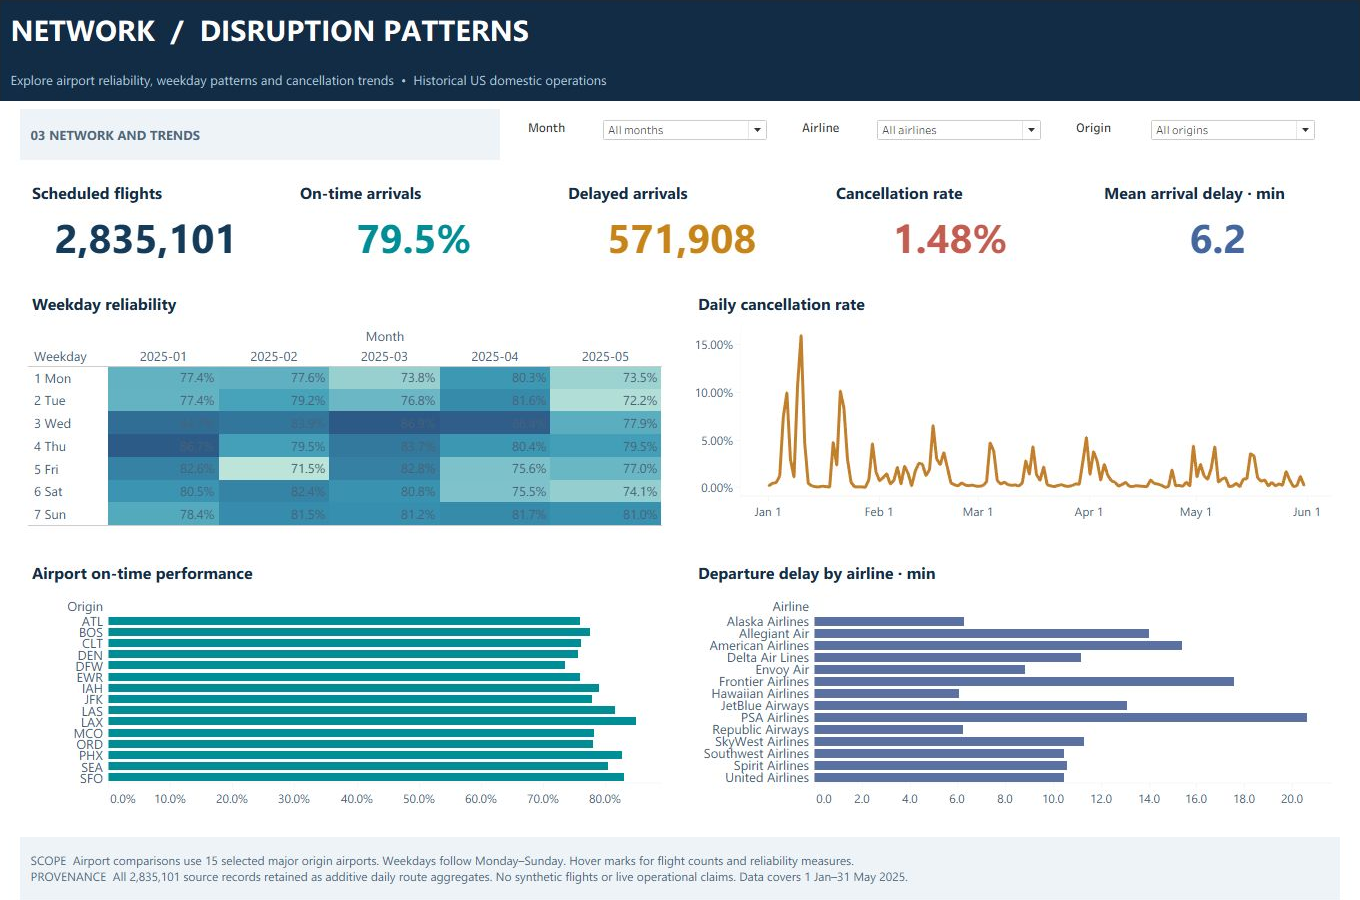

The dashboard page shown, as its layout file describes it:
{"tool":"tableau","page":{"name":"03 Network and Trends","canvas":[1360,900],"ordinal":2},"visuals":[{"type":"text","box":[0,0,1360,58.6]},{"type":"text","box":[0,58.6,1360,42.5]},{"type":"text","box":[20,109.2,480,50.6]},{"type":"parameter","param":"[Parameters].[Month Selection]","box":[520,109.2,258,50.6]},{"type":"parameter","param":"[Parameters].[Airline Selection]","box":[794,109.2,258,50.6]},{"type":"parameter","param":"[Parameters].[Origin Selection]","box":[1068,109.2,258,50.6]},{"type":"worksheet","title":"Scheduled flights","mark":"Text","box":[20,169.9,252,97.1]},{"type":"worksheet","title":"On-time arrivals","mark":"Text","box":[288,169.9,252,97.1]},{"type":"worksheet","title":"Delayed arrivals","mark":"Text","box":[556,169.9,252,97.1]},{"type":"worksheet","title":"Cancellation rate","mark":"Text","box":[824,169.9,252,97.1]},{"type":"worksheet","title":"Mean arrival delay · min","mark":"Text","box":[1092,169.9,252,97.1]},{"type":"worksheet","title":"Weekday reliability","mark":"Square","rows":["Weekday"],"cols":["Month"],"box":[20,281.1,650,252.8]},{"type":"worksheet","title":"Daily cancellation rate","mark":"Line","rows":["Cancellation Rate"],"cols":["Flight Date"],"box":[686,281.1,654,252.8]},{"type":"worksheet","title":"Airport on-time performance","mark":"Bar","rows":["Origin"],"cols":["On Time Rate"],"box":[20,550.1,650,271]},{"type":"worksheet","title":"Departure delay by airline · min","mark":"Bar","rows":["Airline"],"cols":["Mean Departure Delay"],"box":[686,550.1,654,271]},{"type":"text","box":[20,837.3,1320,62.7]}]}

Visuals, with their boxes in screenshot pixels (x1, y1, x2, y2), scaled from the page's 1360x900 canvas onto the 1360x900 screenshot:
text: BBox(0, 0, 1359, 59)
text: BBox(0, 59, 1359, 101)
text: BBox(20, 109, 500, 160)
parameter: BBox(520, 109, 778, 160)
parameter: BBox(794, 109, 1052, 160)
parameter: BBox(1068, 109, 1326, 160)
"Scheduled flights" worksheet (Text marks): BBox(20, 170, 272, 267)
"On-time arrivals" worksheet (Text marks): BBox(288, 170, 540, 267)
"Delayed arrivals" worksheet (Text marks): BBox(556, 170, 808, 267)
"Cancellation rate" worksheet (Text marks): BBox(824, 170, 1076, 267)
"Mean arrival delay · min" worksheet (Text marks): BBox(1092, 170, 1344, 267)
"Weekday reliability" worksheet (Square marks): BBox(20, 281, 670, 534)
"Daily cancellation rate" worksheet (Line marks): BBox(686, 281, 1340, 534)
"Airport on-time performance" worksheet (Bar marks): BBox(20, 550, 670, 821)
"Departure delay by airline · min" worksheet (Bar marks): BBox(686, 550, 1340, 821)
text: BBox(20, 837, 1340, 899)
